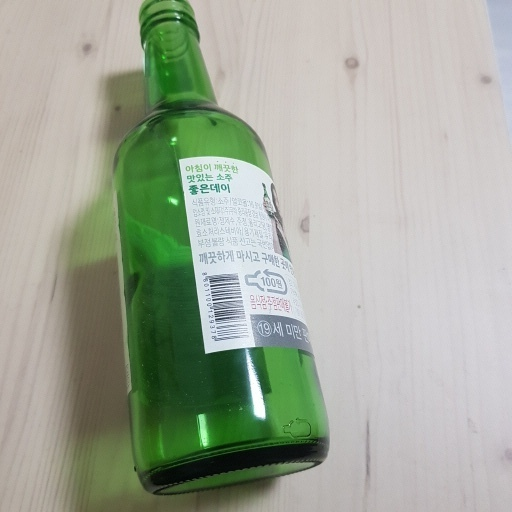Glass_0: (105, 3, 329, 497)
